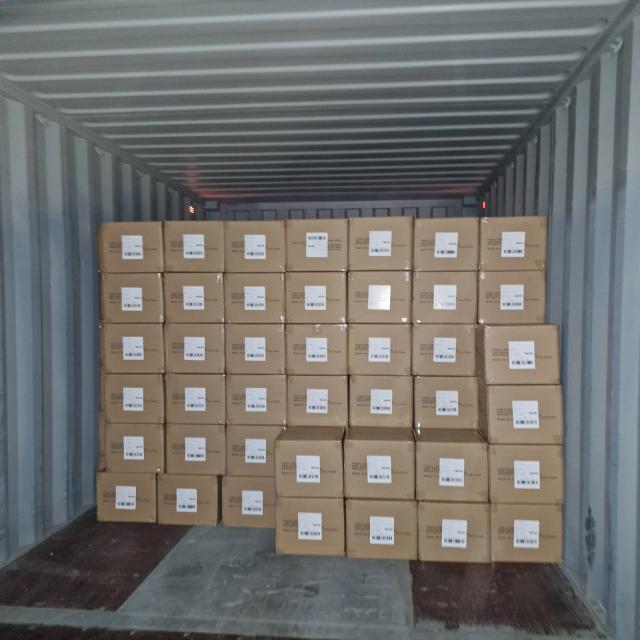Carton: (482, 326, 560, 388), (485, 387, 564, 448), (492, 444, 568, 506), (344, 498, 418, 561), (489, 502, 563, 564), (414, 442, 488, 504), (417, 501, 489, 564), (343, 440, 415, 502), (274, 496, 344, 557), (274, 440, 343, 501), (414, 378, 484, 435), (478, 269, 546, 325), (412, 271, 479, 326), (479, 219, 546, 274), (347, 271, 412, 326), (347, 219, 412, 274), (414, 216, 479, 271), (411, 326, 478, 379), (284, 220, 347, 276), (349, 378, 414, 432), (99, 220, 164, 273), (346, 326, 412, 378), (227, 222, 288, 277), (284, 272, 346, 326), (222, 273, 285, 326), (102, 272, 165, 325), (284, 326, 347, 378), (163, 272, 225, 324), (156, 476, 218, 528), (167, 220, 229, 272), (286, 374, 348, 426), (103, 373, 166, 424), (224, 373, 287, 424), (97, 474, 158, 526), (105, 424, 166, 476), (223, 326, 285, 377), (168, 372, 230, 423), (102, 324, 165, 374), (168, 426, 228, 478), (163, 324, 225, 374), (220, 476, 276, 531), (226, 426, 277, 478)
